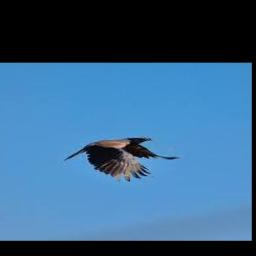Crow: (64, 137, 180, 181)
